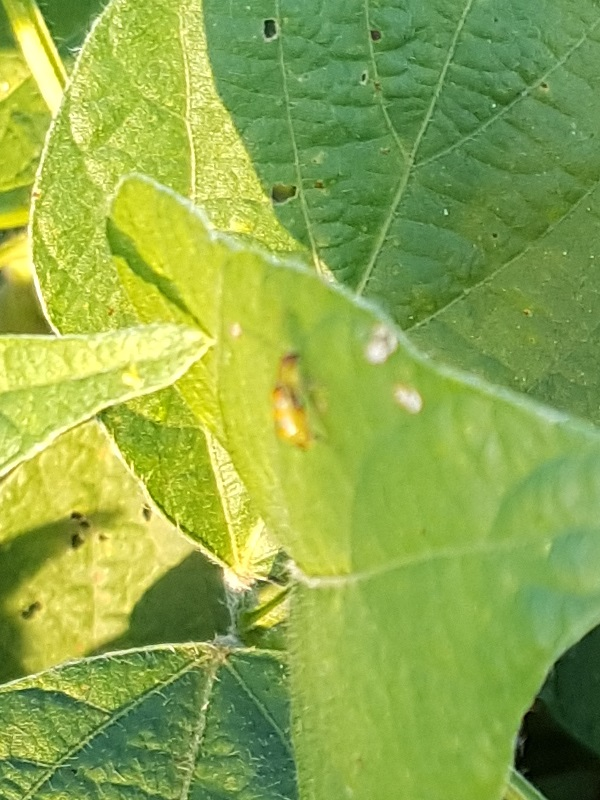Diabrotica_speciosa: (238, 340, 354, 470)
